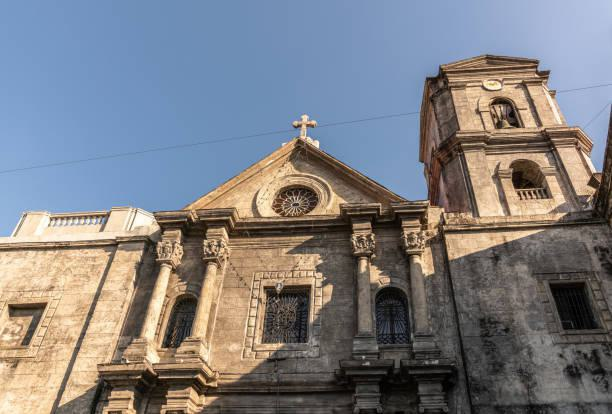san_agustin_church_intramuros_manila: (128, 37, 612, 414)
